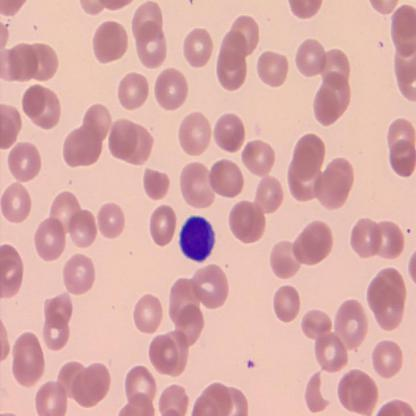Lymphocyte: (178, 215, 216, 263)
